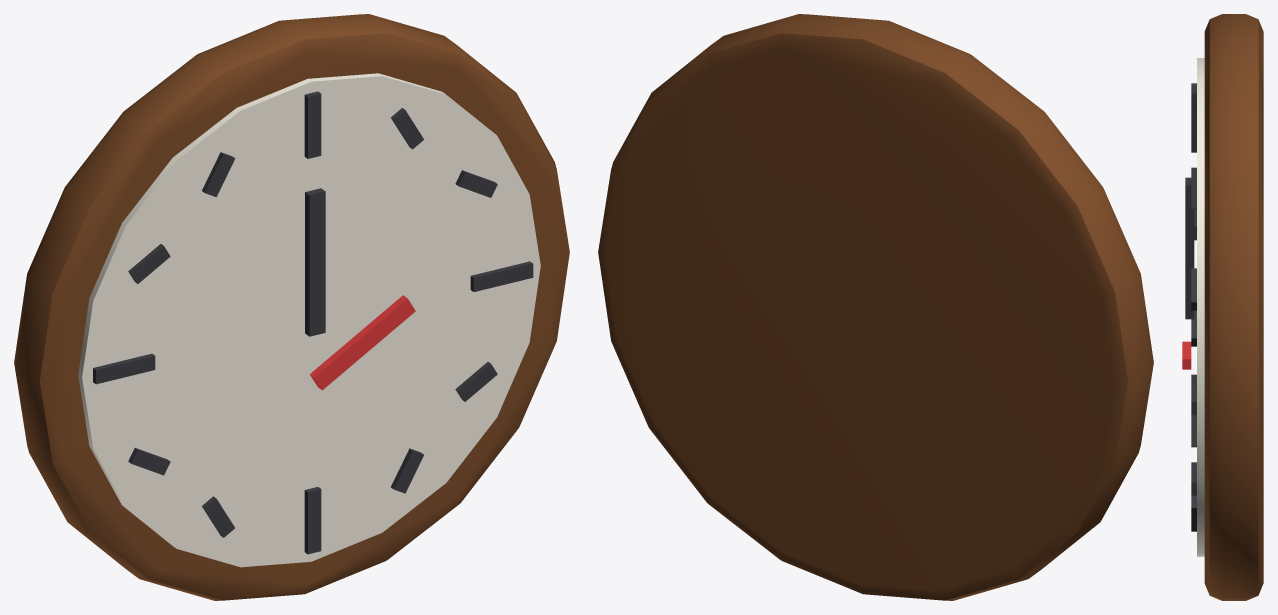
File: WallClock.fbx
The picture shows the model from 3 angles, left to right: view 1: azimuth 30°, elevation 25°; view 2: azimuth 150°, elevation 25°; view 3: azimuth 270°, elevation 25°; orthographic projection. The views are drawn at different scales.
Visible parts, largest first — view 1: WallClock; view 2: WallClock; view 3: WallClock.
Part boxes in pixels (bbox=[...]): WallClock: bbox=[14, 14, 569, 600]; WallClock: bbox=[598, 14, 1153, 600]; WallClock: bbox=[1182, 14, 1263, 600].
Size of the model in its own units: 2 by 2 by 0.275.
Materials: 1 (1 with a texture image).
